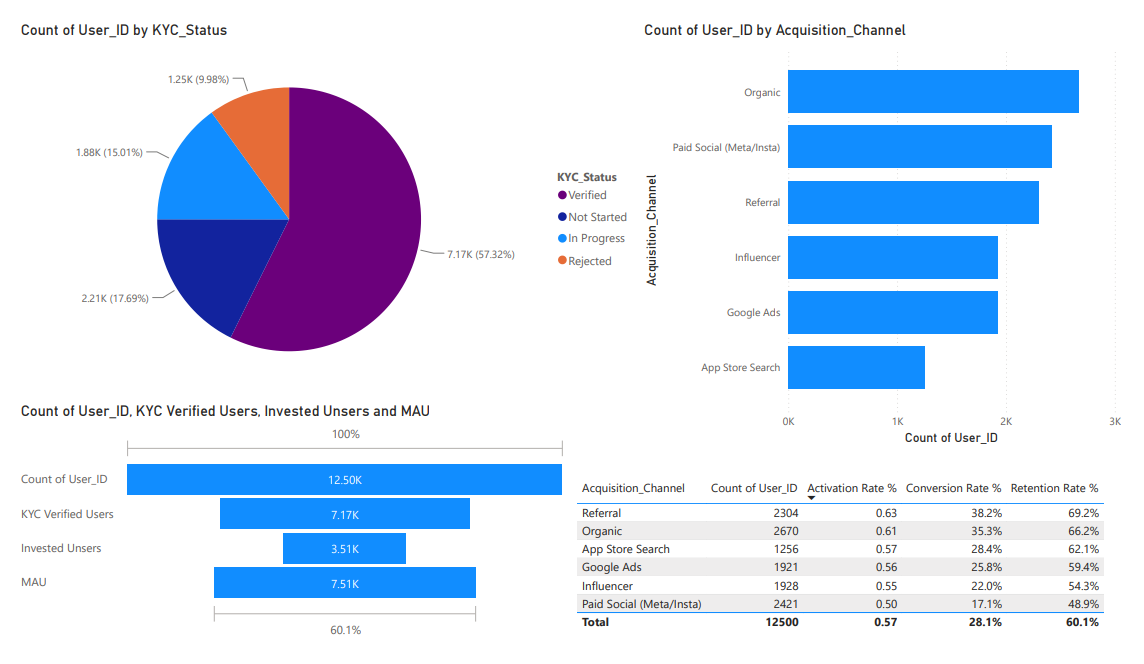

The page's visual inventory and layout, read from the dashboard file:
{"tool":"powerbi","page":{"name":"Zone 2 Accqusation and Funnel","canvas":[1280,720],"ordinal":1},"visuals":[{"type":"pieChart","fields":{"Category":["jar_growth_dataset.KYC_Status"],"Y":["CountNonNull(jar_growth_dataset.User_ID)"]},"box":[0,0,720,440],"z":0},{"type":"clusteredBarChart","fields":{"Category":["jar_growth_dataset.Acquisition_Channel"],"Y":["CountNonNull(jar_growth_dataset.User_ID)"]},"box":[720,0,560,494],"z":1},{"type":"funnel","fields":{"Y":["CountNonNull(jar_growth_dataset.User_ID)","jar_growth_dataset.KYC Verified Users","jar_growth_dataset.Invested Unsers","jar_growth_dataset.MAU"]},"box":[0,440,640,280],"z":2},{"type":"tableEx","fields":{"Values":["jar_growth_dataset.Acquisition_Channel","jar_growth_dataset.User_ID","jar_growth_dataset.Activation Rate %","jar_growth_dataset.Conversion Rate %","jar_growth_dataset.Retention Rate %"]},"box":[642,524,638,196],"z":3}]}

Visuals, with their boxes on the page's 1280x720 design canvas (x1, y1, x2, y2). These are canvas units, not pixel positions in the 1144x664 screenshot, which may show the page scaled, cropped or inside an application window:
pieChart - jar_growth_dataset.KYC_Status x CountNonNull(jar_growth_dataset.User_ID): x1=0, y1=0, x2=720, y2=440
clusteredBarChart - jar_growth_dataset.Acquisition_Channel x CountNonNull(jar_growth_dataset.User_ID): x1=720, y1=0, x2=1280, y2=494
funnel - CountNonNull(jar_growth_dataset.User_ID) x jar_growth_dataset.KYC Verified Users: x1=0, y1=440, x2=640, y2=720
tableEx - jar_growth_dataset.Acquisition_Channel x jar_growth_dataset.User_ID: x1=642, y1=524, x2=1280, y2=720
